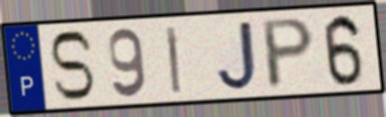6: (321, 12, 365, 88)
9: (106, 25, 149, 100)
I: (164, 23, 183, 96)
J: (215, 19, 260, 94)
P: (261, 15, 317, 92)
S: (46, 28, 97, 103)
